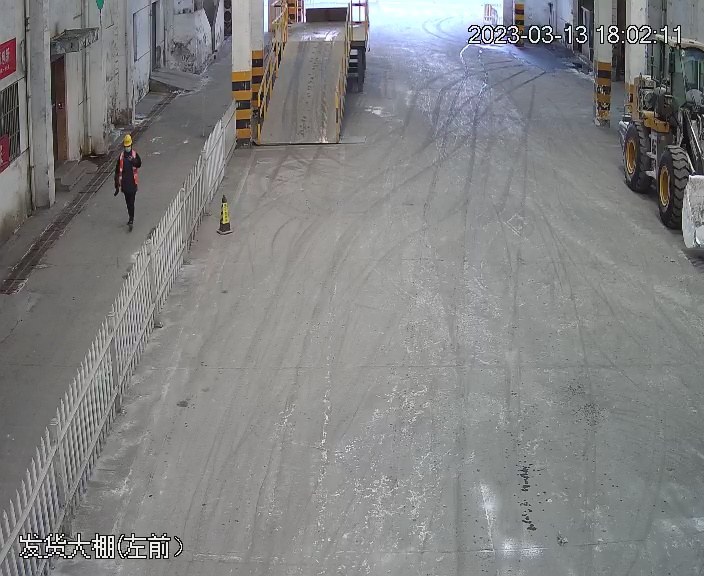head: (116, 133, 140, 163)
helmet: (121, 132, 133, 146)
people: (111, 129, 146, 231)
